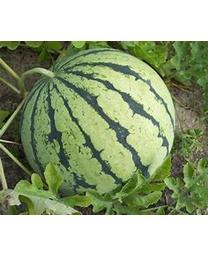watermelon: (19, 46, 176, 206)
